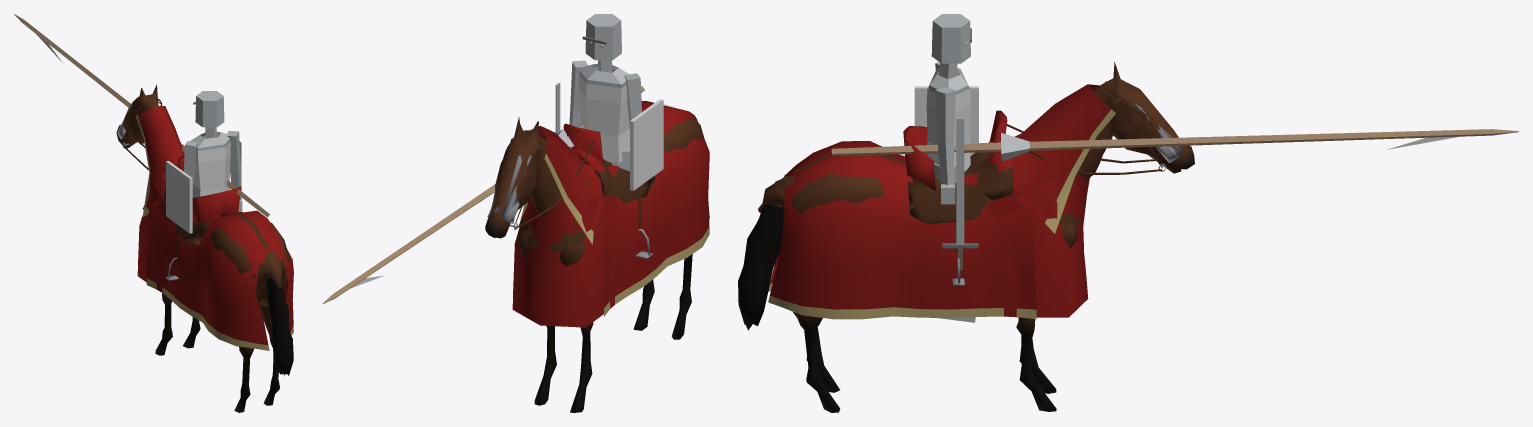
The model's file is cavalry_hx_med_knight_lod1.glb.
The picture shows the model from 3 angles, left to right: view 1: azimuth 30°, elevation 25°; view 2: azimuth 150°, elevation 25°; view 3: azimuth 270°, elevation 25°; orthographic projection. The views are drawn at different scales.
Parts seen in each view (by area): view 1: hx_med_knight_lod1; view 2: hx_med_knight_lod1; view 3: hx_med_knight_lod1.
Part boxes in pixels (x1=…): hx_med_knight_lod1: x1=14, y1=14, x2=293, y2=412; hx_med_knight_lod1: x1=322, y1=14, x2=709, y2=412; hx_med_knight_lod1: x1=738, y1=14, x2=1518, y2=412.
Size of the model in its own units: 0.6937 by 2.35 by 4.37.
